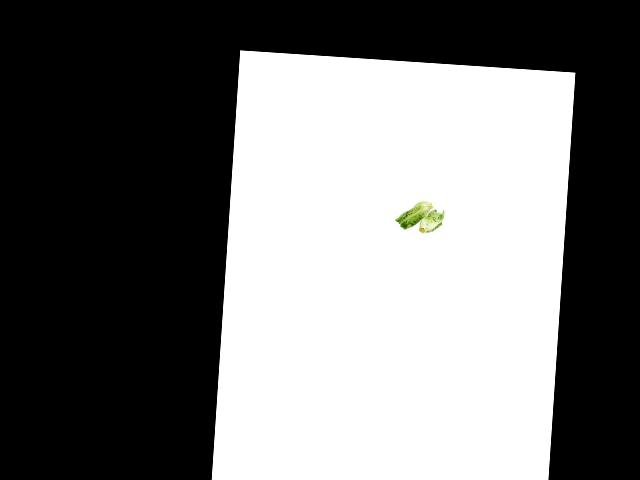lettuce: (416, 207, 446, 238)
